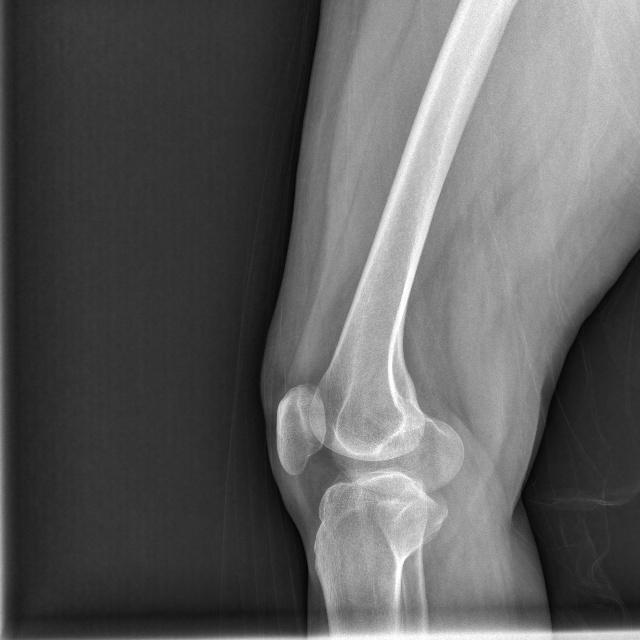Knee: (271, 380, 466, 554)
